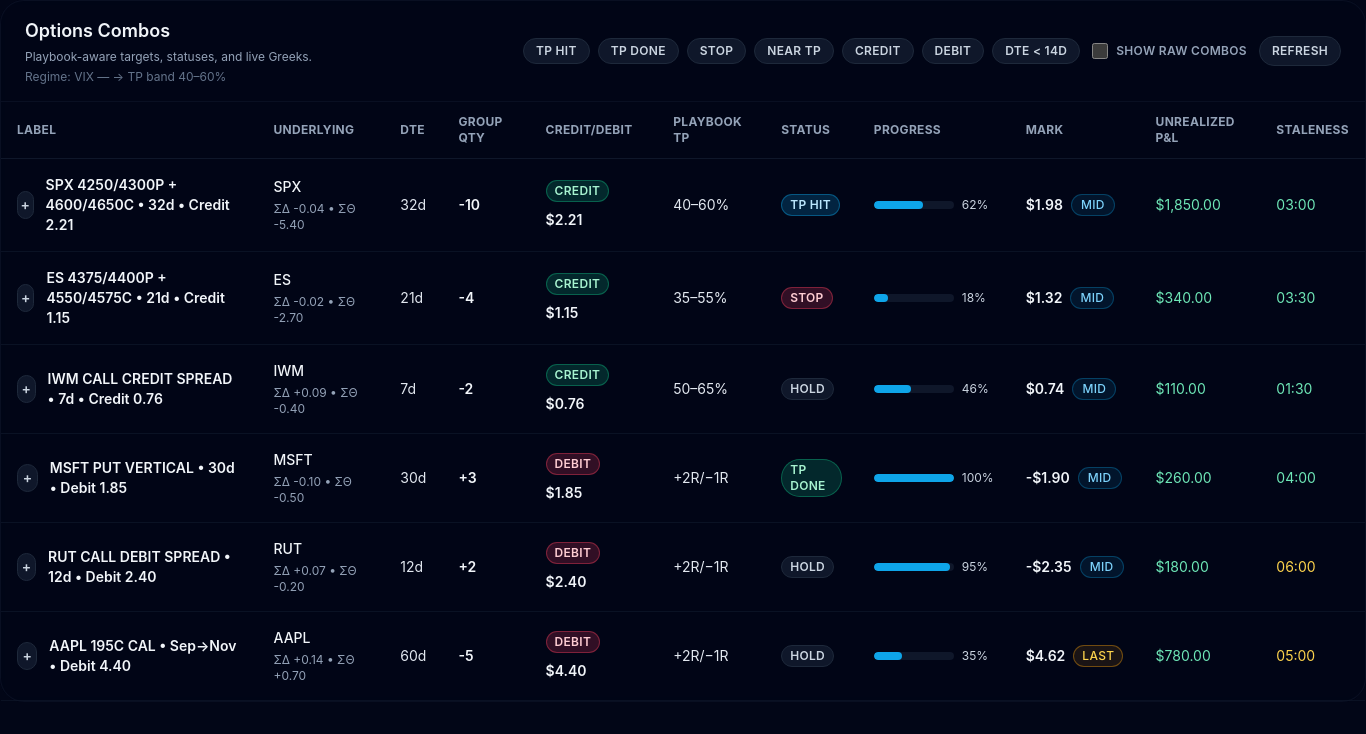
Scenario: CombosTable › renders grouped combos with friendly labels and expands details
The width and height of the screenshot is (1366, 734).
Expected: the column heading "+ SPX 4250/4300P + 4600/4650C • 32d • Credit 2.21" is shown, [1,158,258,252]
What coordinates should you click on to do the following:
click the button named "expand group"
I would click on:
 (25, 205)
Its box is [17,191,34,219].
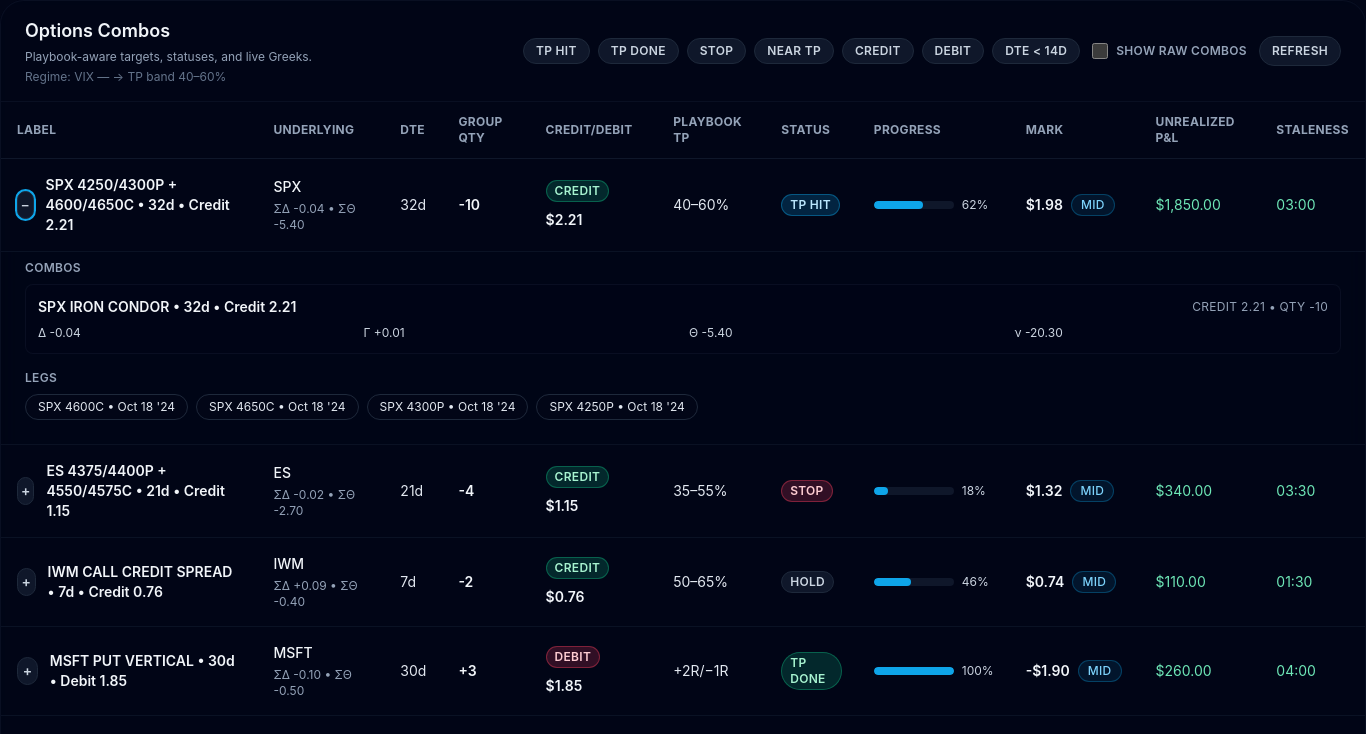
Now the heading "Combos" is shown, box [25,260,81,275]
Now the text "Credit 2.21 • Qty -10" is shown, box [1192,299,1328,315]
Now the text "SPX 4600C • Oct 18 '24" is shown, box [25,394,188,420]
